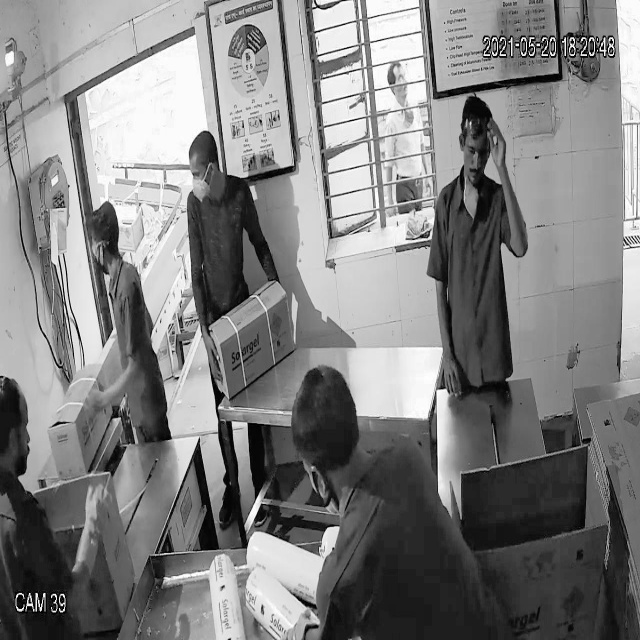Sin_gafas: (458, 135, 493, 166)
